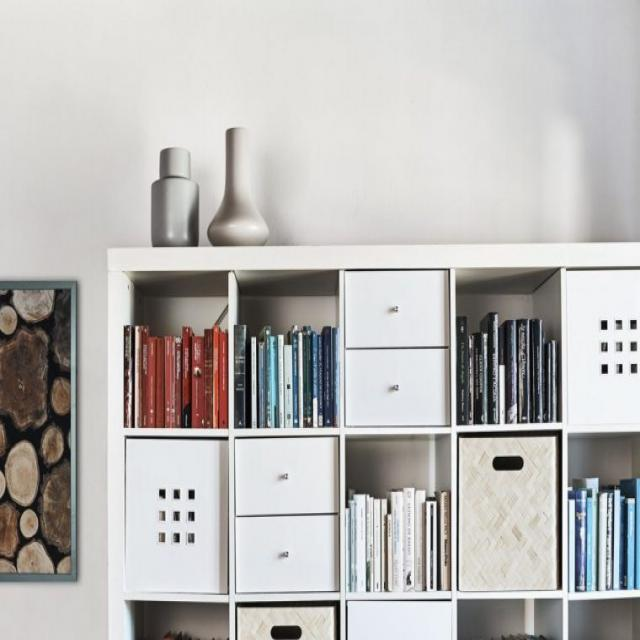Shelf: (102, 242, 640, 640)
